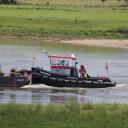tugboat: (32, 53, 119, 91)
